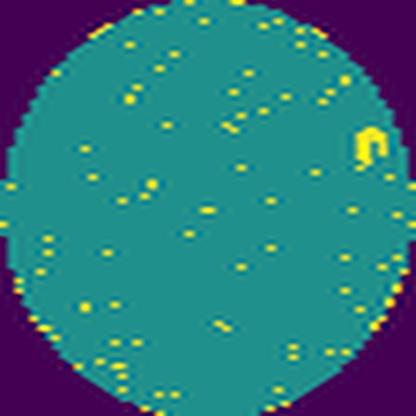Loc: (356, 124, 392, 171)
